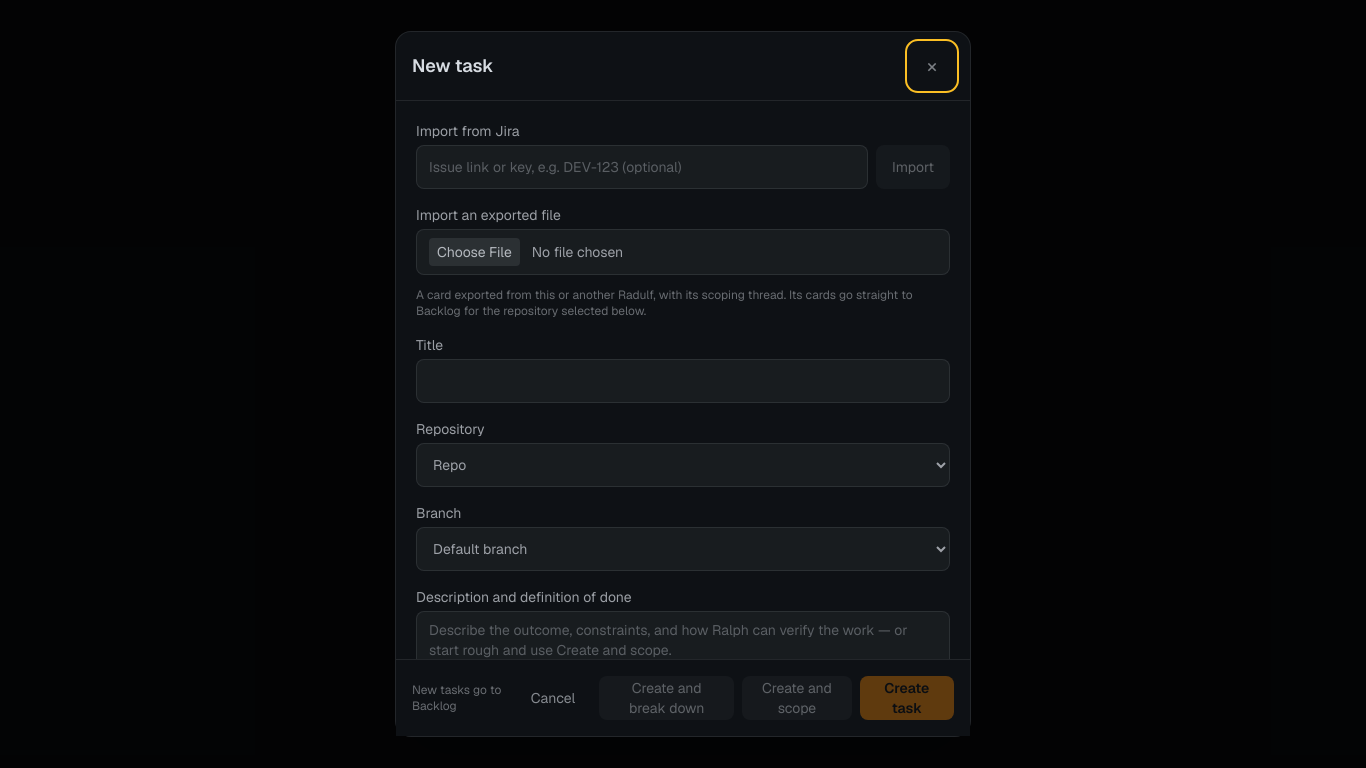
Scenario: NewTaskDialog › offers browsing from the repository select when repositories exist
Select "Add a repository…" in the dropdown labelled "Repository": (683, 465) [416,443,950,487]
(page scrolled)
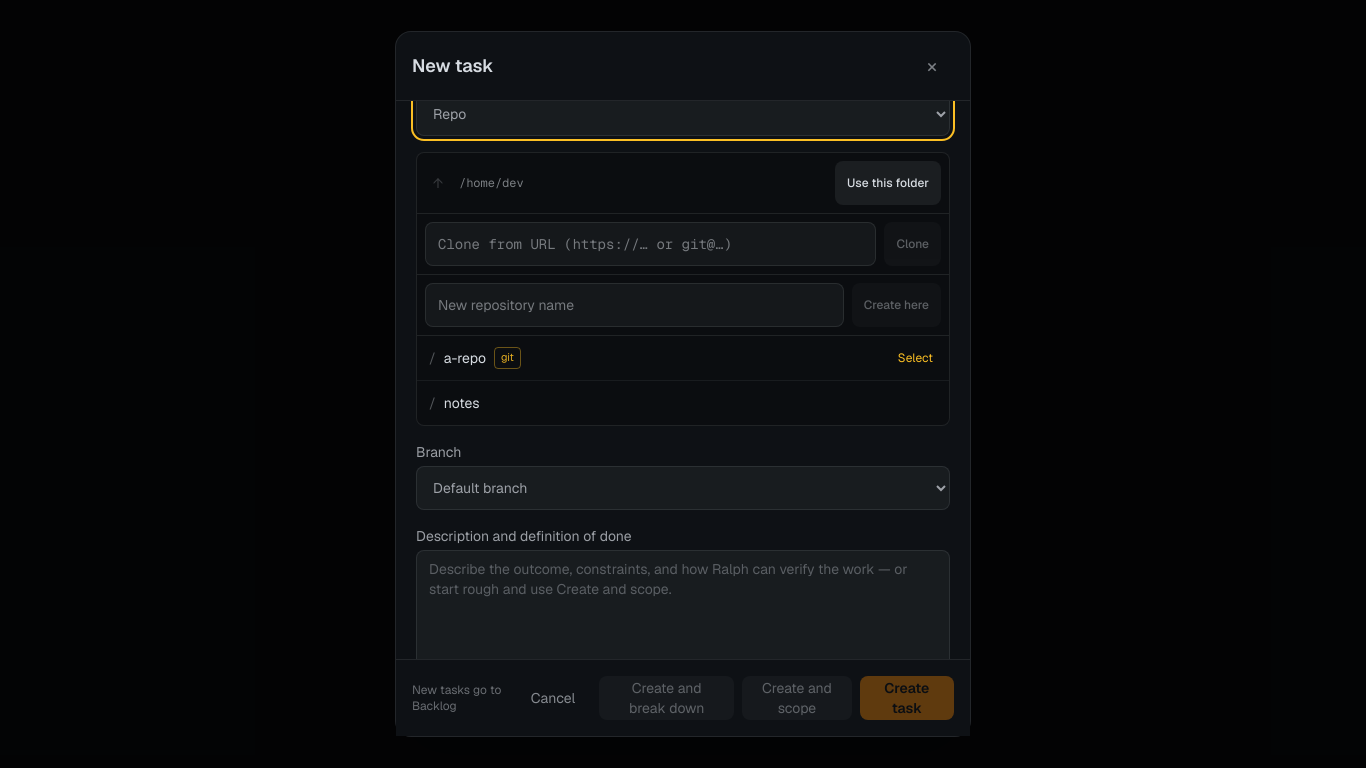
Now the list named "Folders" is shown, box [417,336,949,425]
